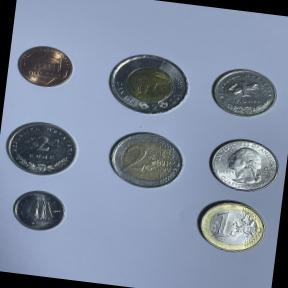1 Euro: (191, 196, 271, 260)
2 Euro: (102, 125, 190, 196)
Canda-10cent-: (9, 186, 71, 235)
Canda-2Dollar-: (102, 47, 197, 120)
Croatia-2Kune-: (0, 114, 84, 181)
US-1cent-: (12, 41, 78, 92)
US-25cent-: (200, 133, 288, 199)
